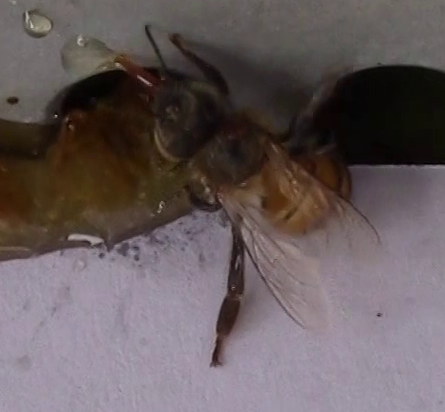Varroa destructor: (216, 116, 259, 150)
